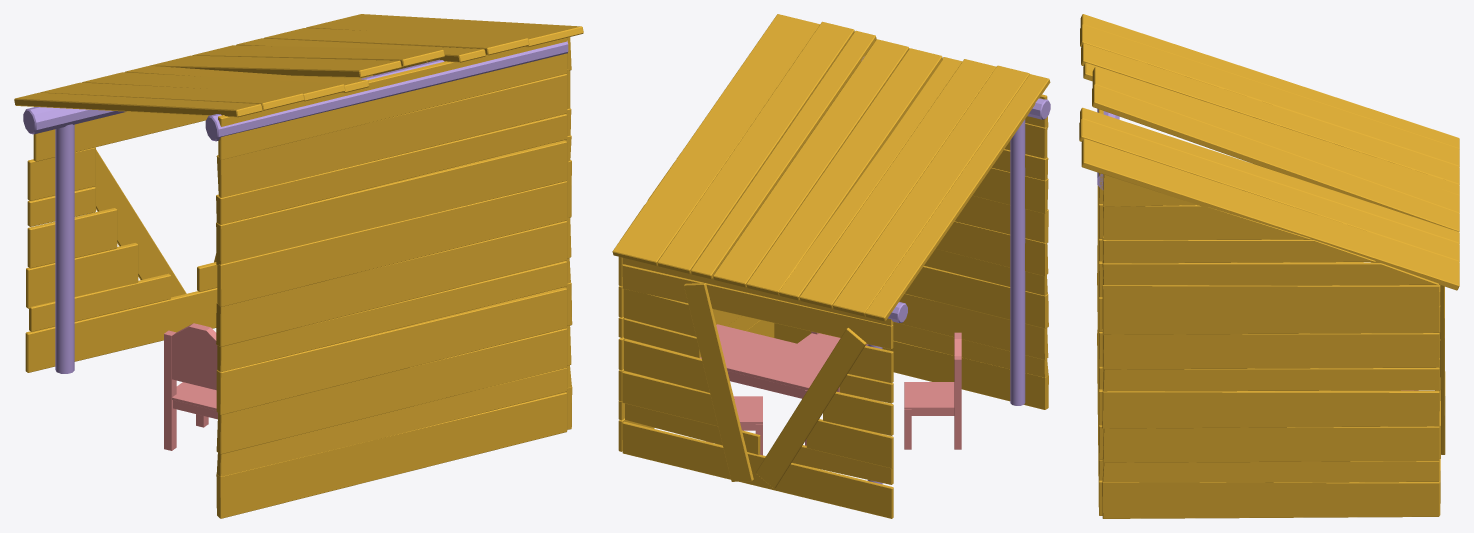
File: childHut.fbx
The picture shows the model from 3 angles, left to right: view 1: azimuth 30°, elevation 25°; view 2: azimuth 150°, elevation 25°; view 3: azimuth 270°, elevation 25°; orthographic projection. The views are drawn at different scales.
Parts seen in each view (by area): view 1: childHut; view 2: childHut; view 3: childHut.
Boxes of the visible parts, bbox=[...] form: childHut: bbox=[14, 14, 583, 518]; childHut: bbox=[612, 14, 1050, 518]; childHut: bbox=[1079, 14, 1459, 518].
Size of the model in its own units: 159 by 177 by 168.
